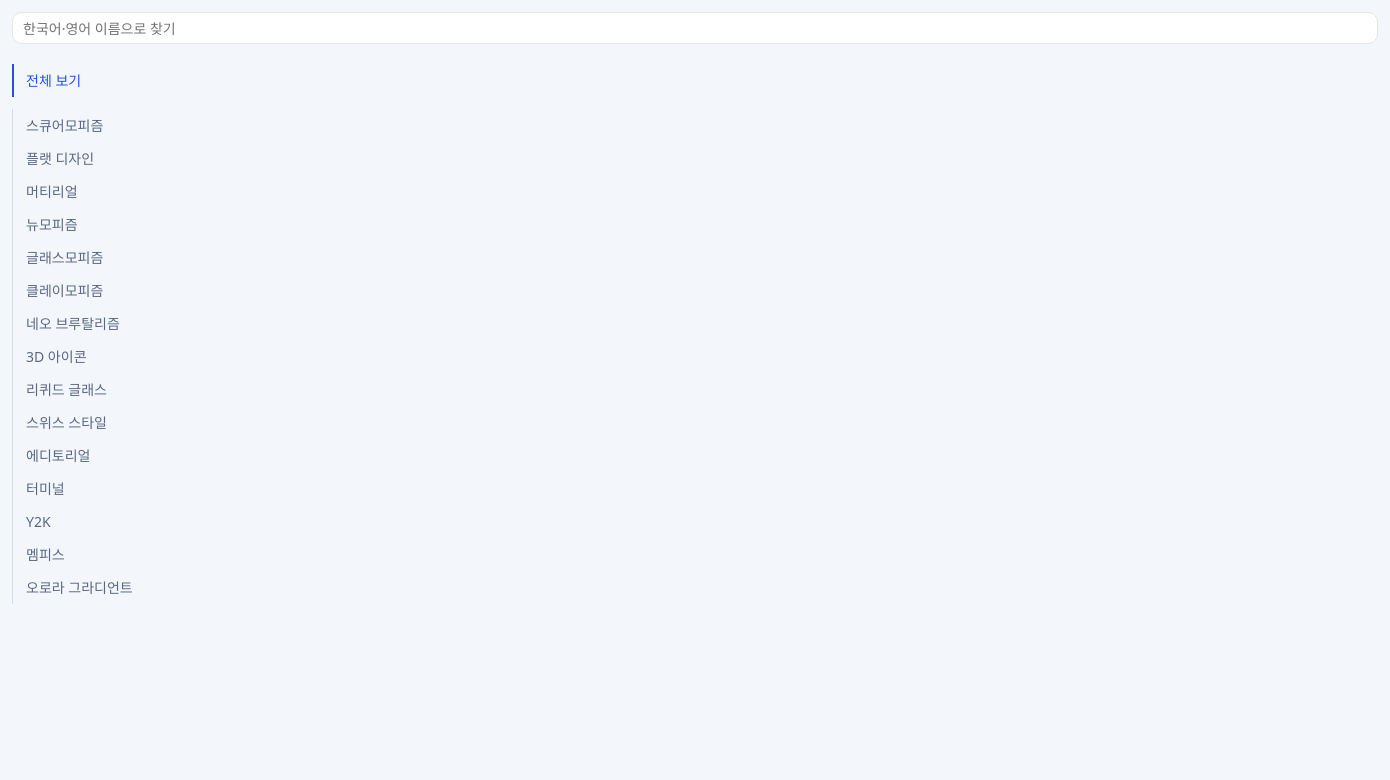
it: StyleNav › says so when no style matches
Type "xyz" into the search field named "스타일 검색".
click(695, 28); type("xyz")  # box [12, 12, 1378, 44]
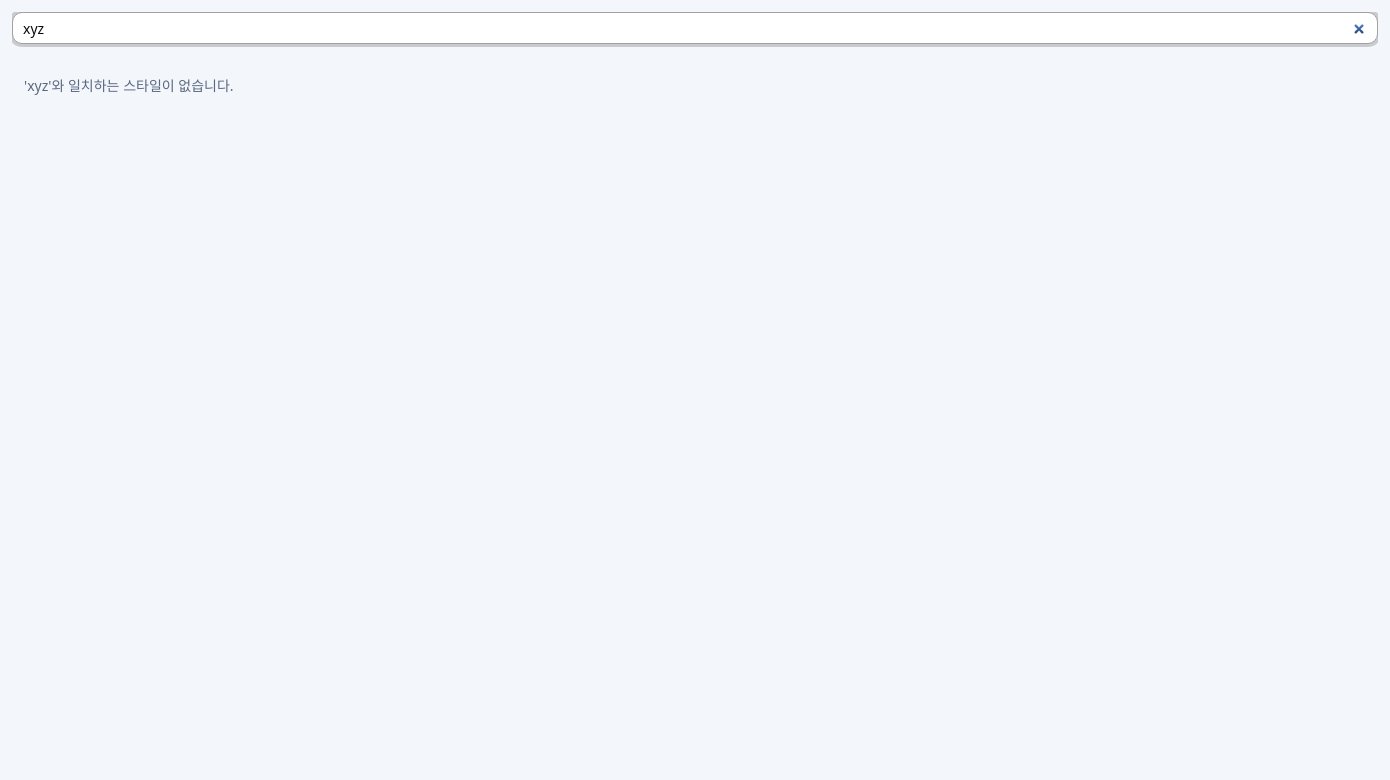
Expected: the text "'xyz'와 일치하는 스타일이 없습니다." is shown, [24, 76, 234, 95]
